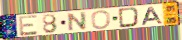8: (42, 14, 59, 34)
A: (141, 6, 165, 26)
D: (118, 6, 141, 29)
E: (17, 14, 40, 37)
N: (67, 11, 88, 32)
O: (91, 10, 112, 30)
